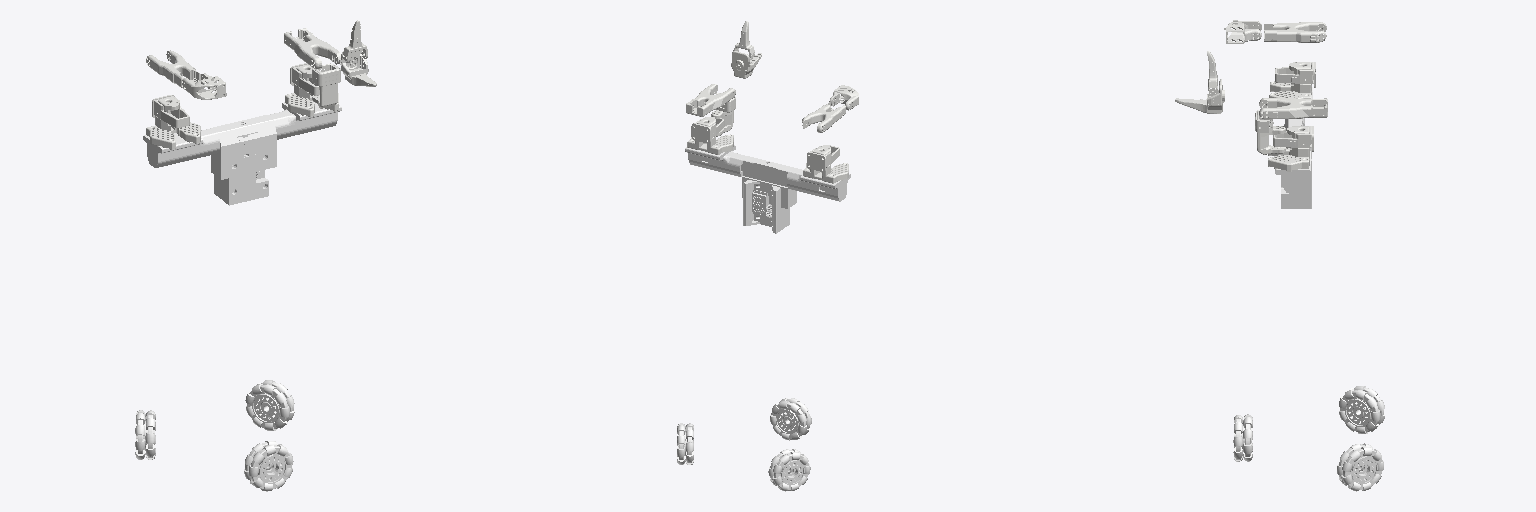
The robot description file, URDF, robot "aloha_mini":
<?xml version="1.0" encoding="utf-8"?>
<!-- AlohaMini URDF with Virtual Mobile Base for ManiSkill3 -->
<!-- Modified to use prismatic X/Y joints and rotation joint like XLeRobot -->
<robot name="aloha_mini">

  <!-- Virtual Base Links (zero mass) for mobile base simulation -->
  <link name="root">
    <inertial>
      <mass value="0"/>
      <inertia ixx="0.00" ixy="0.00" ixz="0.00" iyy="0.00" iyz="0.00" izz="0.00"/>
    </inertial>
  </link>

  <link name="root_x_link">
    <inertial>
      <mass value="0"/>
      <inertia ixx="0.00" ixy="0.00" ixz="0.00" iyy="0.00" iyz="0.00" izz="0.00"/>
    </inertial>
  </link>

  <link name="root_y_link">
    <inertial>
      <mass value="0"/>
      <inertia ixx="0.00" ixy="0.00" ixz="0.00" iyy="0.00" iyz="0.00" izz="0.00"/>
    </inertial>
  </link>

  <!-- Virtual Base Joints -->
  <joint name="root_x_axis_joint" type="prismatic">
    <parent link="root"/>
    <child link="root_x_link"/>
    <axis xyz="1 0 0"/>
    <limit effort="500" lower="-20" upper="20" velocity="1.0"/>
    <dynamics damping="100.0" friction="10"/>
  </joint>

  <joint name="root_y_axis_joint" type="prismatic">
    <parent link="root_x_link"/>
    <child link="root_y_link"/>
    <axis xyz="0 1 0"/>
    <limit effort="500" lower="-20" upper="20" velocity="1.0"/>
    <dynamics damping="100.0" friction="10"/>
  </joint>

  <joint name="root_z_rotation_joint" type="continuous">
    <parent link="root_y_link"/>
    <child link="base_link"/>
    <axis xyz="0 0 1"/>
    <dynamics damping="100.0" friction="10"/>
  </joint>

  <!-- Physical Base Link -->
  <link name="base_link">
    <inertial>
      <origin xyz="-0.00084648 0.00978917 0.34475333" rpy="0 0 0" />
      <mass value="5.09802085" />
      <inertia ixx="0.02139147" ixy="-9.32122e-05" ixz="2.18297e-05"
               iyy="0.02009437" iyz="-0.00021314" izz="0.02209675" />
    </inertial>
    <visual>
      <origin xyz="0 0 0" rpy="0 0 0" />
      <geometry>
        <mesh filename="meshes/base_link.STL" />
      </geometry>
      <material name="white">
        <color rgba="1 1 1 1" />
      </material>
    </visual>
    <collision>
      <origin xyz="0 0 0" rpy="0 0 0" />
      <geometry>
        <mesh filename="meshes/base_link.STL" />
      </geometry>
    </collision>
  </link>

  <!-- Wheels (visual only - fixed joints for decoration) -->
  <link name="wheel1">
    <inertial>
      <origin xyz="-5.2749e-05 0.01577411 -1.8443e-07" rpy="0 0 0" />
      <mass value="0.19481896" />
      <inertia ixx="5.0889e-05" ixy="3.6052e-11" ixz="2.6907e-11"
               iyy="9.3635e-05" iyz="-4.4529e-12" izz="5.089e-05" />
    </inertial>
    <visual>
      <origin xyz="0 0 0" rpy="0 0 0" />
      <geometry>
        <mesh filename="meshes/wheel1.STL" />
      </geometry>
      <material name="white">
        <color rgba="1 1 1 1" />
      </material>
    </visual>
  </link>
  <joint name="wheel1_joint" type="fixed">
    <origin xyz="-0.1538 0.091161 0.0422" rpy="0 0 -2.1099" />
    <parent link="base_link" />
    <child link="wheel1" />
  </joint>

  <link name="wheel2">
    <inertial>
      <origin xyz="-6.4495e-06 0.01577407 -5.2356e-05" rpy="0 0 0" />
      <mass value="0.19481804" />
      <inertia ixx="5.089e-05" ixy="-1.2087e-12" ixz="-2.0278e-10"
               iyy="9.3635e-05" iyz="5.3546e-11" izz="5.0889e-05" />
    </inertial>
    <visual>
      <origin xyz="0 0 0" rpy="0 0 0" />
      <geometry>
        <mesh filename="meshes/wheel2.STL" />
      </geometry>
      <material name="white">
        <color rgba="1 1 1 1" />
      </material>
    </visual>
  </link>
  <joint name="wheel2_joint" type="fixed">
    <origin xyz="0.15563 0.087993 0.0422" rpy="0 0 2.086" />
    <parent link="base_link" />
    <child link="wheel2" />
  </joint>

  <link name="wheel3">
    <inertial>
      <origin xyz="0.00021759 0.01577265 -4.564e-05" rpy="0 0 0" />
      <mass value="0.19481853" />
      <inertia ixx="5.09e-05" ixy="6.6162e-07" ixz="-7.5485e-10"
               iyy="9.3625e-05" iyz="7.6853e-11" izz="5.089e-05" />
    </inertial>
    <visual>
      <origin xyz="0 0 0" rpy="0 0 0" />
      <geometry>
        <mesh filename="meshes/wheel3.STL" />
      </geometry>
      <material name="white">
        <color rgba="1 1 1 1" />
      </material>
    </visual>
  </link>
  <joint name="wheel3_joint" type="fixed">
    <origin xyz="-0.0020354 -0.17875 0.0422" rpy="0 0 0" />
    <parent link="base_link" />
    <child link="wheel3" />
  </joint>

  <!-- Vertical Link (Lift) -->
  <link name="vertical_link">
    <inertial>
      <origin xyz="-0.00028187 0.00785824 0.63016724" rpy="0 0 0" />
      <mass value="1.13349901" />
      <inertia ixx="0.00108584" ixy="2.1331e-05" ixz="-1.0049e-05"
               iyy="0.00311025" iyz="-2.9641e-05" izz="0.00240766" />
    </inertial>
    <visual>
      <origin xyz="0 0 0" rpy="0 0 0" />
      <geometry>
        <mesh filename="meshes/vertical_link.STL" />
      </geometry>
      <material name="white">
        <color rgba="1 1 1 1" />
      </material>
    </visual>
    <collision>
      <origin xyz="0 0 0" rpy="0 0 0" />
      <geometry>
        <mesh filename="meshes/vertical_link.STL" />
      </geometry>
    </collision>
  </link>
  <joint name="vertical_move" type="prismatic">
    <origin xyz="-0.001045 -0.067891 0.064" rpy="0 0 0" />
    <parent link="base_link" />
    <child link="vertical_link" />
    <axis xyz="0 0 1" />
    <limit lower="0" upper="0.6" effort="100" velocity="0.5" />
  </joint>

  <!-- ========== LEFT ARM ========== -->
  <link name="left_base">
    <inertial>
      <origin xyz="-6.4717e-05 0.0317790 0.0165976" rpy="0 0 0" />
      <mass value="0.1981004" />
      <inertia ixx="0.00013742" ixy="-1.8252e-09" ixz="-5.1345e-07"
               iyy="0.00017754" iyz="2.1329e-05" izz="0.00015037" />
    </inertial>
    <visual>
      <origin xyz="0 0 0" rpy="0 0 0" />
      <geometry>
        <mesh filename="meshes/left_base.STL" />
      </geometry>
      <material name="light_gray">
        <color rgba="0.9647 0.9647 0.9529 1" />
      </material>
    </visual>
    <collision>
      <origin xyz="0 0 0" rpy="0 0 0" />
      <geometry>
        <mesh filename="meshes/left_base.STL" />
      </geometry>
    </collision>
  </link>
  <joint name="left_base_joint" type="fixed">
    <origin xyz="0.15726 0.026474 0.68821" rpy="1.5721 0 -0.01193" />
    <parent link="vertical_link" />
    <child link="left_base" />
  </joint>

  <link name="left_link1">
    <inertial>
      <origin xyz="0.00012111 -0.03131871 0.0119674" rpy="0 0 0" />
      <mass value="0.124705" />
      <inertia ixx="5.9853e-05" ixy="4.2301e-08" ixz="4.2386e-07"
               iyy="5.5604e-05" iyz="4.7788e-06" izz="3.0253e-05" />
    </inertial>
    <visual>
      <origin xyz="0 0 0" rpy="0 0 0" />
      <geometry>
        <mesh filename="meshes/left_link1.STL" />
      </geometry>
      <material name="light_gray">
        <color rgba="0.9647 0.9647 0.9529 1" />
      </material>
    </visual>
    <collision>
      <origin xyz="0 0 0" rpy="0 0 0" />
      <geometry>
        <mesh filename="meshes/left_link1.STL" />
      </geometry>
    </collision>
  </link>
  <joint name="left_joint1" type="revolute">
    <origin xyz="-9.9427e-05 0.065387 0.045495" rpy="-1.5721 0.01193 -1.5058e-05" />
    <parent link="left_base" />
    <child link="left_link1" />
    <axis xyz="0 0 -1" />
    <limit lower="-3.14159" upper="3.14159" effort="50" velocity="3.14159" />
  </joint>

  <link name="left_link2">
    <inertial>
      <origin xyz="0.01995687 0.07428563 0.00422114" rpy="0 0 0" />
      <mass value="0.15999519" />
      <inertia ixx="0.00015178" ixy="1.0926e-06" ixz="1.2166e-07"
               iyy="5.7646e-05" iyz="7.4954e-07" izz="0.0001869" />
    </inertial>
    <visual>
      <origin xyz="0 0 0" rpy="0 0 0" />
      <geometry>
        <mesh filename="meshes/left_link2.STL" />
      </geometry>
      <material name="light_gray">
        <color rgba="0.9647 0.9647 0.9529 1" />
      </material>
    </visual>
    <collision>
      <origin xyz="0 0 0" rpy="0 0 0" />
      <geometry>
        <mesh filename="meshes/left_link2.STL" />
      </geometry>
    </collision>
  </link>
  <joint name="left_joint2" type="revolute">
    <origin xyz="-0.01727994 -0.0311811 0.05393615" rpy="0 0 0" />
    <parent link="left_link1" />
    <child link="left_link2" />
    <axis xyz="1 0 0" />
    <limit lower="-1.5708" upper="1.5708" effort="50" velocity="3.14159" />
  </joint>

  <link name="left_link3">
    <inertial>
      <origin xyz="0.01886355 -0.07648183 0.00074037" rpy="0 0 0" />
      <mass value="0.13554297" />
      <inertia ixx="9.7953e-05" ixy="7.3253e-07" ixz="-1.9798e-07"
               iyy="3.9703e-05" iyz="-2.4965e-06" izz="0.00012531" />
    </inertial>
    <visual>
      <origin xyz="0 0 0" rpy="0 0 0" />
      <geometry>
        <mesh filename="meshes/left_link3.STL" />
      </geometry>
      <material name="light_gray">
        <color rgba="0.9647 0.9647 0.9529 1" />
      </material>
    </visual>
    <collision>
      <origin xyz="0 0 0" rpy="0 0 0" />
      <geometry>
        <mesh filename="meshes/left_link3.STL" />
      </geometry>
    </collision>
  </link>
  <joint name="left_joint3" type="revolute">
    <origin xyz="0.0028523 0.11238 0.028829" rpy="0 0 0" />
    <parent link="left_link2" />
    <child link="left_link3" />
    <axis xyz="1 0 0" />
    <limit lower="-1.5708" upper="1.5708" effort="50" velocity="3.14159" />
  </joint>

  <link name="left_link4">
    <inertial>
      <origin xyz="0.02798382 -0.03630682 0.00038483" rpy="0 0 0" />
      <mass value="0.07428787" />
      <inertia ixx="1.6699e-05" ixy="1.9772e-06" ixz="-2.5423e-07"
               iyy="2.4374e-05" iyz="6.9058e-08" izz="3.1432e-05" />
    </inertial>
    <visual>
      <origin xyz="0 0 0" rpy="0 0 0" />
      <geometry>
        <mesh filename="meshes/left_link4.STL" />
      </geometry>
      <material name="light_gray">
        <color rgba="0.9647 0.9647 0.9529 1" />
      </material>
    </visual>
    <collision>
      <origin xyz="0 0 0" rpy="0 0 0" />
      <geometry>
        <mesh filename="meshes/left_link4.STL" />
      </geometry>
    </collision>
  </link>
  <joint name="left_joint4" type="revolute">
    <origin xyz="0.00048210 -0.13414858 0.00362381" rpy="0 0 0" />
    <parent link="left_link3" />
    <child link="left_link4" />
    <axis xyz="1 0 0" />
    <limit lower="-1.5708" upper="1.5708" effort="50" velocity="3.14159" />
  </joint>

  <link name="left_link5">
    <inertial>
      <origin xyz="8.0839e-05 -0.02634094 -0.00560237" rpy="0 0 0" />
      <mass value="0.09920476" />
      <inertia ixx="4.9245e-05" ixy="-2.5338e-07" ixz="-4.2684e-07"
               iyy="2.7153e-05" iyz="-6.955e-06" izz="3.9139e-05" />
    </inertial>
    <visual>
      <origin xyz="0 0 0" rpy="0 0 0" />
      <geometry>
        <mesh filename="meshes/left_link5.STL" />
      </geometry>
      <material name="light_gray">
        <color rgba="0.9647 0.9647 0.9529 1" />
      </material>
    </visual>
    <collision>
      <origin xyz="0 0 0" rpy="0 0 0" />
      <geometry>
        <mesh filename="meshes/left_link5.STL" />
      </geometry>
    </collision>
  </link>
  <joint name="left_joint5" type="revolute">
    <origin xyz="0.01973839 -0.06179034 -0.00026214" rpy="0 0 0" />
    <parent link="left_link4" />
    <child link="left_link5" />
    <axis xyz="0 1 0" />
    <limit lower="-1.5708" upper="1.5708" effort="50" velocity="3.14159" />
  </joint>

  <link name="left_link6">
    <inertial>
      <origin xyz="-0.02040389 -0.00159758 0.02974645" rpy="0 0 0" />
      <mass value="0.02084541" />
      <inertia ixx="9.1411e-06" ixy="3.3761e-08" ixz="-1.3002e-07"
               iyy="1.1431e-05" iyz="6.4278e-07" izz="3.293e-06" />
    </inertial>
    <visual>
      <origin xyz="0 0 0" rpy="0 0 0" />
      <geometry>
        <mesh filename="meshes/left_link6.STL" />
      </geometry>
      <material name="light_gray">
        <color rgba="0.9647 0.9647 0.9529 1" />
      </material>
    </visual>
    <collision>
      <origin xyz="0 0 0" rpy="0 0 0" />
      <geometry>
        <mesh filename="meshes/left_link6.STL" />
      </geometry>
    </collision>
  </link>
  <joint name="left_joint6" type="revolute">
    <origin xyz="0.01877202 -0.02382815 0.02000351" rpy="0 0 0" />
    <parent link="left_link5" />
    <child link="left_link6" />
    <axis xyz="-1 0 0" />
    <limit lower="-3.14159" upper="3.14159" effort="50" velocity="3.14159" />
  </joint>

  <!-- Left End Effector (gripper tip) -->
  <link name="left_ee_link" />
  <joint name="left_ee_joint" type="fixed">
    <origin xyz="0 0 0.05" rpy="0 0 0" />
    <parent link="left_link6" />
    <child link="left_ee_link" />
  </joint>

  <!-- ========== RIGHT ARM ========== -->
  <link name="right_base">
    <inertial>
      <origin xyz="-6.4717e-05 0.0317790 0.0165976" rpy="0 0 0" />
      <mass value="0.1981004" />
      <inertia ixx="0.00013742" ixy="-1.8253e-09" ixz="-5.1345e-07"
               iyy="0.00017754" iyz="2.1329e-05" izz="0.00015037" />
    </inertial>
    <visual>
      <origin xyz="0 0 0" rpy="0 0 0" />
      <geometry>
        <mesh filename="meshes/right_base.STL" />
      </geometry>
      <material name="light_gray">
        <color rgba="0.9647 0.9647 0.9529 1" />
      </material>
    </visual>
    <collision>
      <origin xyz="0 0 0" rpy="0 0 0" />
      <geometry>
        <mesh filename="meshes/right_base.STL" />
      </geometry>
    </collision>
  </link>
  <joint name="right_base_joint" type="fixed">
    <origin xyz="-0.15657564 0.03021825 0.68890773" rpy="1.5720585 0 -0.01193" />
    <parent link="vertical_link" />
    <child link="right_base" />
  </joint>

  <link name="right_link1">
    <inertial>
      <origin xyz="0.00012111 -0.03131871 0.0119674" rpy="0 0 0" />
      <mass value="0.124705" />
      <inertia ixx="5.9853e-05" ixy="4.2301e-08" ixz="4.2386e-07"
               iyy="5.5604e-05" iyz="4.7788e-06" izz="3.0253e-05" />
    </inertial>
    <visual>
      <origin xyz="0 0 0" rpy="0 0 0" />
      <geometry>
        <mesh filename="meshes/right_link1.STL" />
      </geometry>
      <material name="light_gray">
        <color rgba="0.9647 0.9647 0.9529 1" />
      </material>
    </visual>
    <collision>
      <origin xyz="0 0 0" rpy="0 0 0" />
      <geometry>
        <mesh filename="meshes/right_link1.STL" />
      </geometry>
    </collision>
  </link>
  <joint name="right_joint1" type="revolute">
    <origin xyz="-9.9427e-05 0.065387 0.04549463" rpy="-1.5720586 0.01193 -1.5058e-05" />
    <parent link="right_base" />
    <child link="right_link1" />
    <axis xyz="0 0 -1" />
    <limit lower="-3.14159" upper="3.14159" effort="50" velocity="3.14159" />
  </joint>

  <link name="right_link2">
    <inertial>
      <origin xyz="0.01995687 0.07428563 0.00422114" rpy="0 0 0" />
      <mass value="0.15999519" />
      <inertia ixx="0.00015178" ixy="1.0926e-06" ixz="1.2166e-07"
               iyy="5.7646e-05" iyz="7.4954e-07" izz="0.0001869" />
    </inertial>
    <visual>
      <origin xyz="0 0 0" rpy="0 0 0" />
      <geometry>
        <mesh filename="meshes/right_link2.STL" />
      </geometry>
      <material name="light_gray">
        <color rgba="0.9647 0.9647 0.9529 1" />
      </material>
    </visual>
    <collision>
      <origin xyz="0 0 0" rpy="0 0 0" />
      <geometry>
        <mesh filename="meshes/right_link2.STL" />
      </geometry>
    </collision>
  </link>
  <joint name="right_joint2" type="revolute">
    <origin xyz="-0.01727994 -0.0311811 0.05393615" rpy="0 0 0" />
    <parent link="right_link1" />
    <child link="right_link2" />
    <axis xyz="1 0 0" />
    <limit lower="-1.5708" upper="1.5708" effort="50" velocity="3.14159" />
  </joint>

  <link name="right_link3">
    <inertial>
      <origin xyz="0.01886355 -0.07648183 0.00074037" rpy="0 0 0" />
      <mass value="0.13554297" />
      <inertia ixx="9.7953e-05" ixy="7.3253e-07" ixz="-1.9798e-07"
               iyy="3.9703e-05" iyz="-2.4965e-06" izz="0.00012531" />
    </inertial>
    <visual>
      <origin xyz="0 0 0" rpy="0 0 0" />
      <geometry>
        <mesh filename="meshes/right_link3.STL" />
      </geometry>
      <material name="light_gray">
        <color rgba="0.9647 0.9647 0.9529 1" />
      </material>
    </visual>
    <collision>
      <origin xyz="0 0 0" rpy="0 0 0" />
      <geometry>
        <mesh filename="meshes/right_link3.STL" />
      </geometry>
    </collision>
  </link>
  <joint name="right_joint3" type="revolute">
    <origin xyz="0.00285228 0.11237908 0.02882863" rpy="0 0 0" />
    <parent link="right_link2" />
    <child link="right_link3" />
    <axis xyz="1 0 0" />
    <limit lower="-1.5708" upper="1.5708" effort="50" velocity="3.14159" />
  </joint>

  <link name="right_link4">
    <inertial>
      <origin xyz="0.02798382 -0.03630682 0.00038483" rpy="0 0 0" />
      <mass value="0.07428787" />
      <inertia ixx="1.6699e-05" ixy="1.9772e-06" ixz="-2.5423e-07"
               iyy="2.4374e-05" iyz="6.9058e-08" izz="3.1432e-05" />
    </inertial>
    <visual>
      <origin xyz="0 0 0" rpy="0 0 0" />
      <geometry>
        <mesh filename="meshes/right_link4.STL" />
      </geometry>
      <material name="light_gray">
        <color rgba="0.9647 0.9647 0.9529 1" />
      </material>
    </visual>
    <collision>
      <origin xyz="0 0 0" rpy="0 0 0" />
      <geometry>
        <mesh filename="meshes/right_link4.STL" />
      </geometry>
    </collision>
  </link>
  <joint name="right_joint4" type="revolute">
    <origin xyz="0.00048210 -0.13414858 0.00362381" rpy="0 0 0" />
    <parent link="right_link3" />
    <child link="right_link4" />
    <axis xyz="1 0 0" />
    <limit lower="-1.5708" upper="1.5708" effort="50" velocity="3.14159" />
  </joint>

  <link name="right_link5">
    <inertial>
      <origin xyz="8.0840e-05 -0.02634094 -0.00560237" rpy="0 0 0" />
      <mass value="0.09920475" />
      <inertia ixx="4.9245e-05" ixy="-2.5338e-07" ixz="-4.2684e-07"
               iyy="2.7153e-05" iyz="-6.955e-06" izz="3.9139e-05" />
    </inertial>
    <visual>
      <origin xyz="0 0 0" rpy="0 0 0" />
      <geometry>
        <mesh filename="meshes/right_link5.STL" />
      </geometry>
      <material name="light_gray">
        <color rgba="0.9647 0.9647 0.9529 1" />
      </material>
    </visual>
    <collision>
      <origin xyz="0 0 0" rpy="0 0 0" />
      <geometry>
        <mesh filename="meshes/right_link5.STL" />
      </geometry>
    </collision>
  </link>
  <joint name="right_joint5" type="revolute">
    <origin xyz="0.01973839 -0.06179034 -0.00026214" rpy="0 0 0" />
    <parent link="right_link4" />
    <child link="right_link5" />
    <axis xyz="0 1 0" />
    <limit lower="-1.5708" upper="1.5708" effort="50" velocity="3.14159" />
  </joint>

  <link name="right_link6">
    <inertial>
      <origin xyz="-0.02040389 -0.00159758 0.02974645" rpy="0 0 0" />
      <mass value="0.02084541" />
      <inertia ixx="9.1411e-06" ixy="3.3761e-08" ixz="-1.3002e-07"
               iyy="1.1431e-05" iyz="6.4278e-07" izz="3.293e-06" />
    </inertial>
    <visual>
      <origin xyz="0 0 0" rpy="0 0 0" />
      <geometry>
        <mesh filename="meshes/right_link6.STL" />
      </geometry>
      <material name="light_gray">
        <color rgba="0.9647 0.9647 0.9529 1" />
      </material>
    </visual>
    <collision>
      <origin xyz="0 0 0" rpy="0 0 0" />
      <geometry>
        <mesh filename="meshes/right_link6.STL" />
      </geometry>
    </collision>
  </link>
  <joint name="right_joint6" type="revolute">
    <origin xyz="0.01877202 -0.02382815 0.02000351" rpy="0 0 0" />
    <parent link="right_link5" />
    <child link="right_link6" />
    <axis xyz="-1 0 0" />
    <limit lower="-3.14159" upper="3.14159" effort="50" velocity="3.14159" />
  </joint>

  <!-- Right End Effector (gripper tip) -->
  <link name="right_ee_link" />
  <joint name="right_ee_joint" type="fixed">
    <origin xyz="0 0 0.05" rpy="0 0 0" />
    <parent link="right_link6" />
    <child link="right_ee_link" />
  </joint>

</robot>

--- Render facts (derived) ---
The picture shows the robot from 3 angles, left to right: view 1: azimuth 30°, elevation 25°; view 2: azimuth 150°, elevation 25°; view 3: azimuth 270°, elevation 25°; orthographic projection.
Model aloha_mini with 24 links and 23 joints (12 revolute, 1 continuous, 3 prismatic, 7 fixed), rooted at root, posed every joint at zero.
Links seen in each view (by area): view 1: vertical_link, right_base, wheel3, wheel2, left_base, left_link2, right_link3, left_link1, wheel1, right_link4, left_link5; view 2: vertical_link, wheel1, wheel3, left_base, right_base, left_link2, right_link3, wheel2, left_link5; view 3: wheel2, wheel1, left_base, vertical_link, right_base, left_link2, right_link3, wheel3, left_link1, right_link4, left_link5.
Boxes of the visible links, x1,y1,x2,y2 form: vertical_link: (143, 101, 341, 205); right_base: (146, 95, 200, 149); wheel3: (244, 441, 293, 491); wheel2: (245, 380, 294, 430); left_base: (285, 63, 338, 117); left_link2: (284, 28, 340, 68); right_link3: (146, 50, 200, 87); left_link1: (312, 63, 340, 108); wheel1: (135, 410, 155, 459); right_link4: (182, 73, 226, 99); left_link5: (339, 50, 376, 86); vertical_link: (685, 145, 850, 233); wheel1: (768, 449, 810, 491); wheel3: (770, 398, 811, 440); left_base: (687, 117, 733, 154); right_base: (803, 145, 848, 183); left_link2: (686, 84, 735, 116); right_link3: (802, 102, 845, 132); wheel2: (677, 423, 693, 464); left_link5: (731, 51, 761, 78); wheel2: (1337, 443, 1383, 491); wheel1: (1339, 386, 1384, 433); left_base: (1268, 126, 1313, 171); vertical_link: (1275, 87, 1312, 208); right_base: (1269, 62, 1315, 98); left_link2: (1259, 98, 1327, 119); right_link3: (1264, 22, 1326, 42); wheel3: (1233, 414, 1252, 461); left_link1: (1255, 110, 1285, 154); right_link4: (1224, 20, 1261, 43); left_link5: (1175, 79, 1224, 113).
Bounding box of the posed robot: 0.4248 × 0.4379 × 1.01 m (x, y, z).
Meshes: 19 distinct files referenced, 12 mesh visuals loaded (12 binary STL); not drawn: 7 (reference not matched to a file when rendering).
